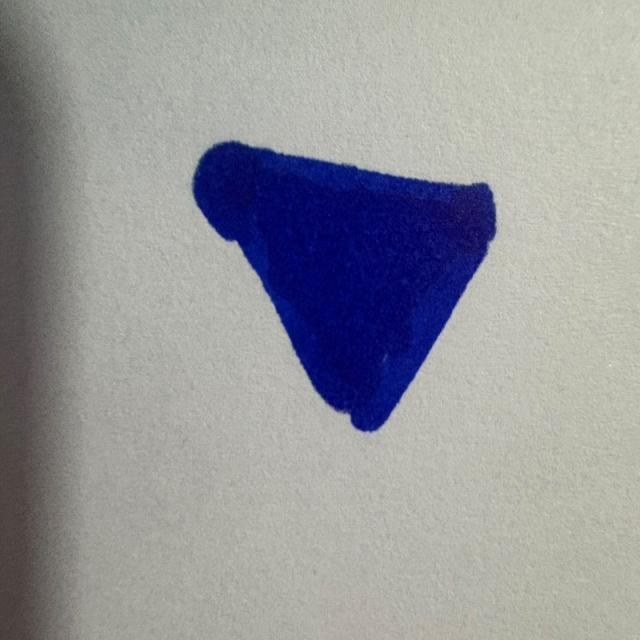Triangle: (193, 141, 495, 431)
